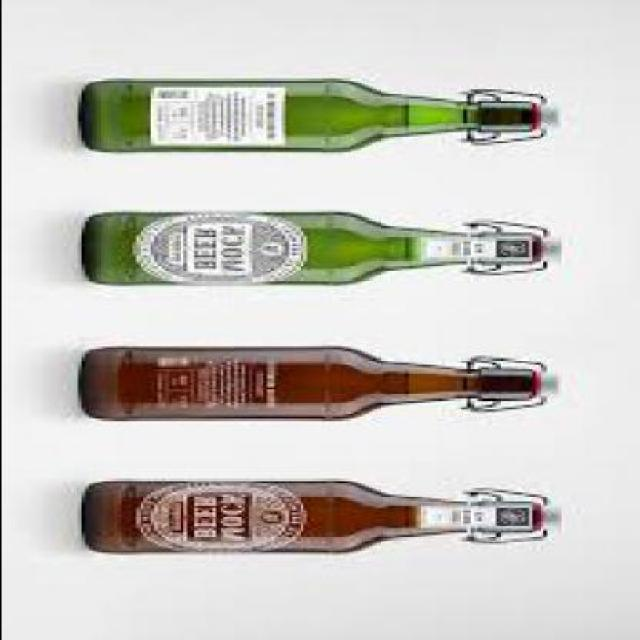GLASS: (76, 348, 538, 426), (80, 214, 542, 288), (80, 480, 542, 554), (77, 83, 541, 154)
PLASTIC: (538, 107, 560, 135), (538, 372, 556, 402), (542, 237, 560, 266), (548, 508, 564, 535)
